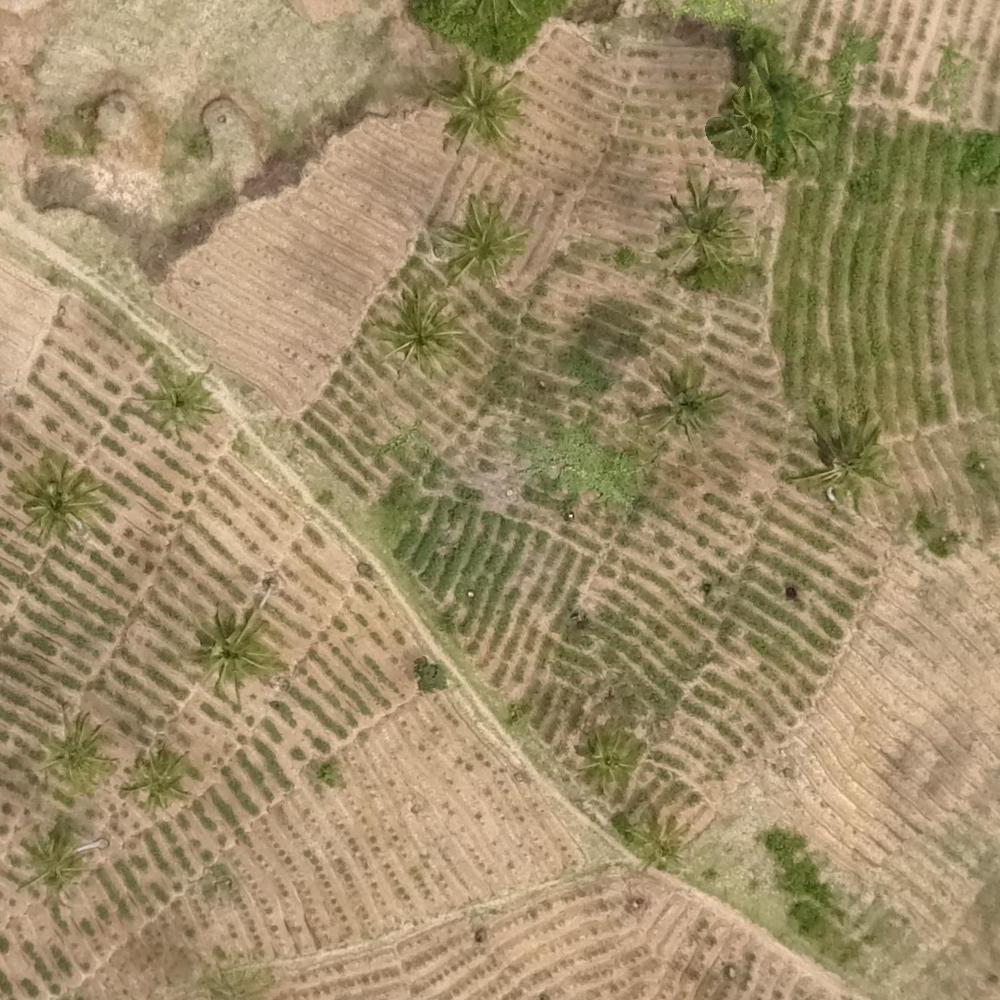Palm: (191, 602, 284, 700), (793, 416, 888, 507), (665, 182, 750, 273), (375, 286, 467, 368), (434, 67, 525, 148), (13, 458, 98, 543), (435, 198, 518, 281), (35, 716, 113, 795), (136, 359, 213, 438), (18, 827, 97, 904), (646, 368, 722, 443), (118, 749, 195, 816), (575, 728, 644, 792), (624, 812, 690, 869)
